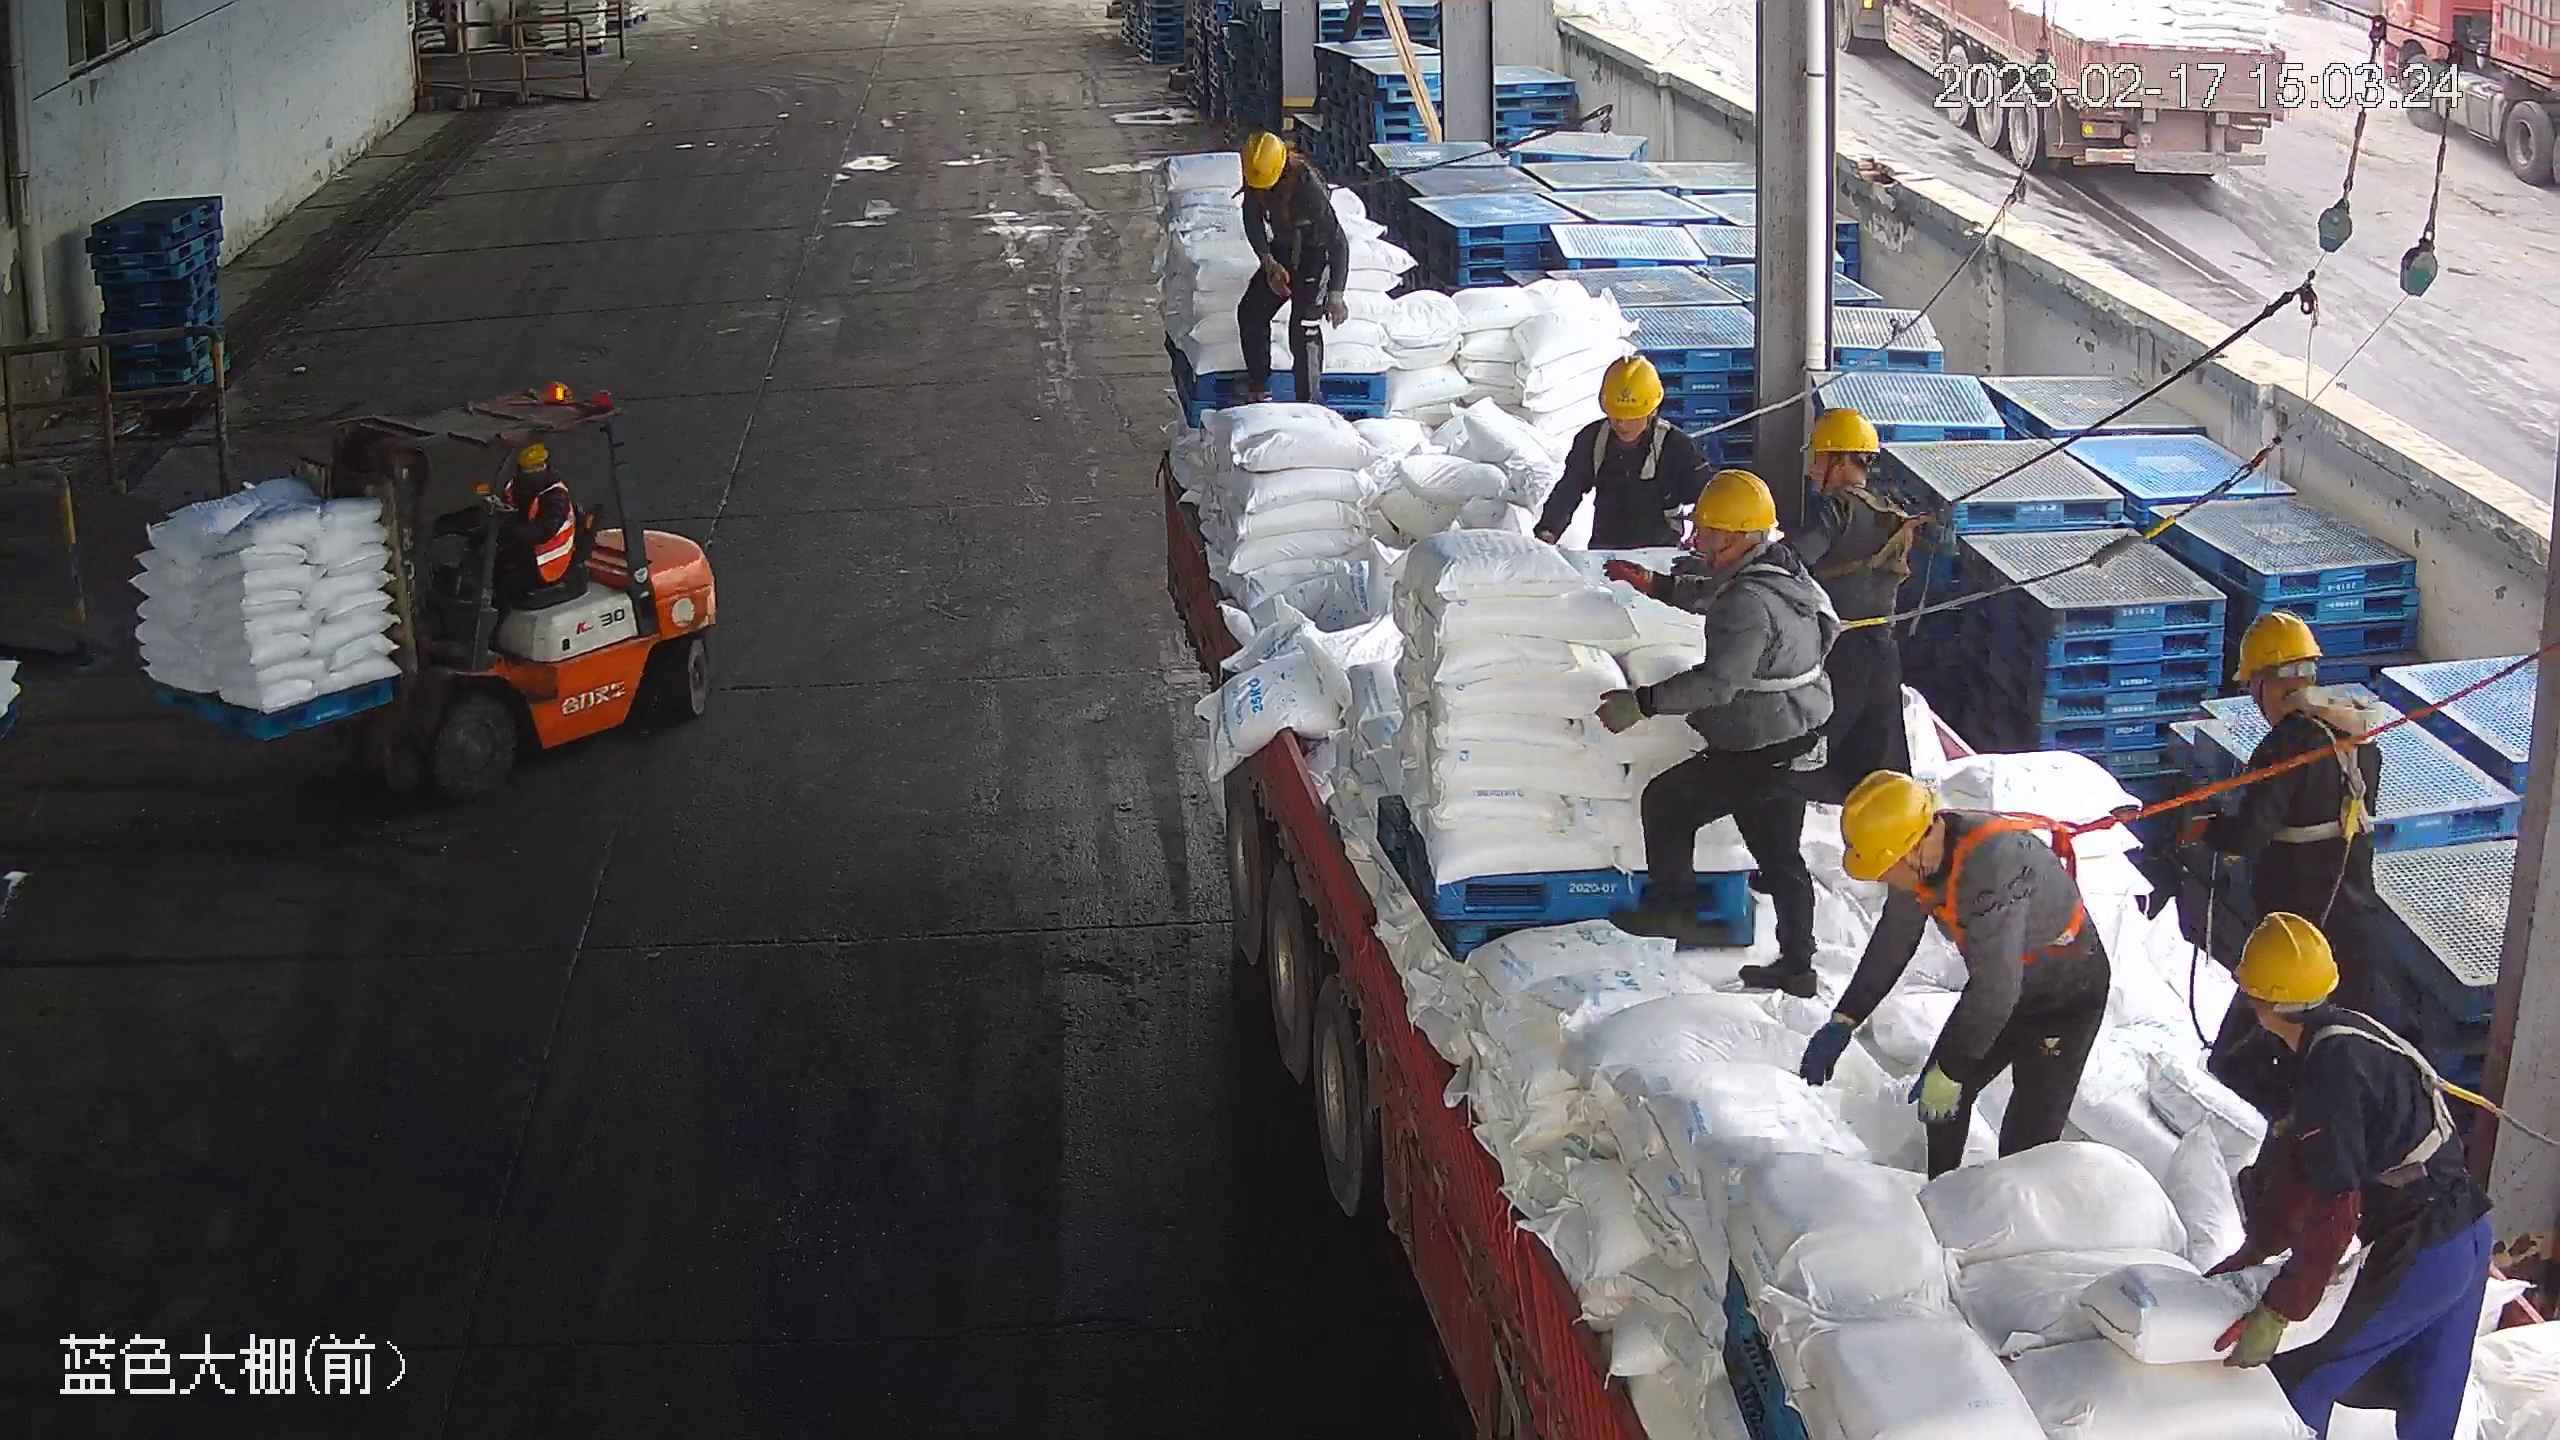belt: (2298, 1004, 2470, 1188), (1913, 805, 2108, 962), (1703, 550, 1881, 699), (2257, 704, 2384, 854), (1826, 475, 1934, 581), (1593, 420, 1680, 484), (1265, 182, 1315, 236)
head: (2228, 908, 2427, 1111), (1833, 766, 2066, 916), (2225, 607, 2379, 780), (1668, 465, 1828, 627), (1567, 350, 1711, 476), (1801, 403, 1919, 539), (1234, 128, 1332, 211), (497, 443, 572, 533)
helmet: (1834, 765, 1941, 885), (2231, 906, 2343, 1007), (1682, 465, 1781, 536), (2232, 607, 2324, 682), (1594, 352, 1665, 421), (1801, 404, 1883, 459), (1237, 129, 1288, 190), (515, 439, 549, 467)
people: (2197, 908, 2492, 1439), (1795, 764, 2114, 1195), (1593, 465, 1838, 1004), (1796, 403, 1928, 790), (1231, 127, 1351, 409), (475, 437, 581, 628)
truck: (1101, 142, 2536, 1440)
